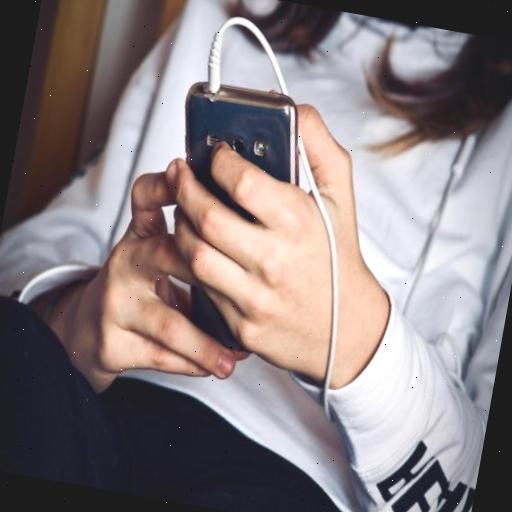phone: (138, 74, 302, 386)
